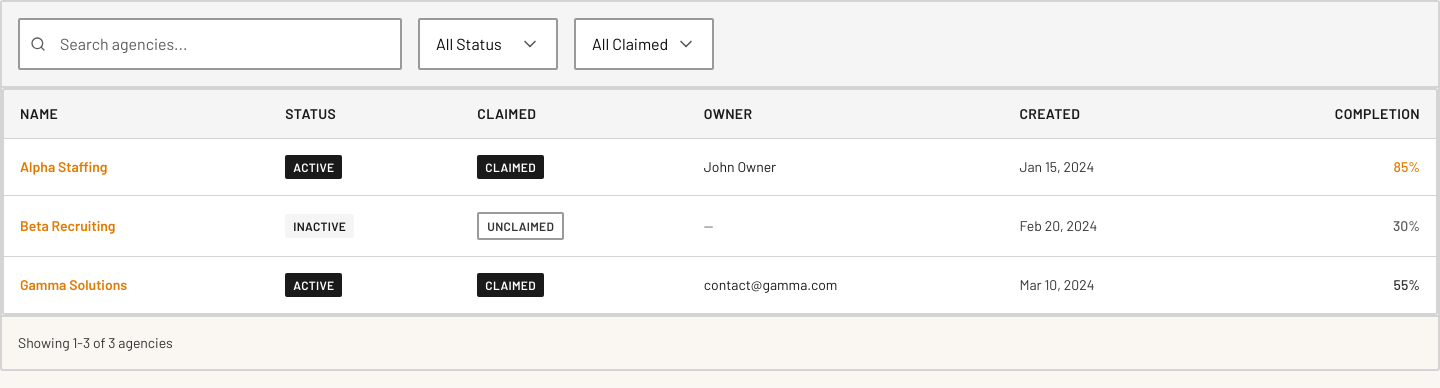
Scenario: AdminAgenciesTable › Clear Filters › clears all filters when clear button is clicked
The width and height of the screenshot is (1440, 388).
Note: Apply search filter
Type "Alpha" into the field with test id "agency-search-input".
click(210, 44); type("Alpha")  # box 18,18 -> 402,70
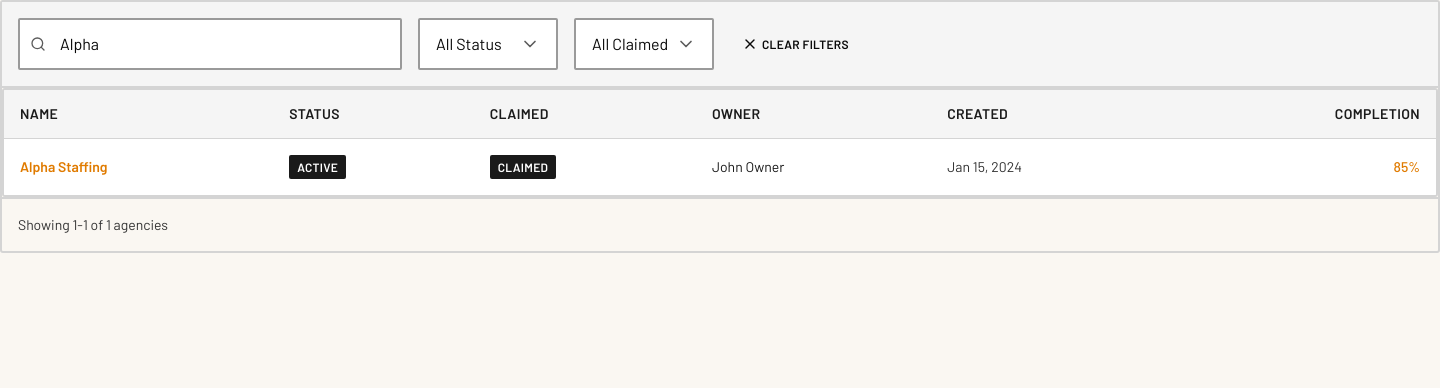
Note: Click clear button
Click the button with test id "clear-filters-button".
click(795, 44)  # box 730,22 -> 861,66
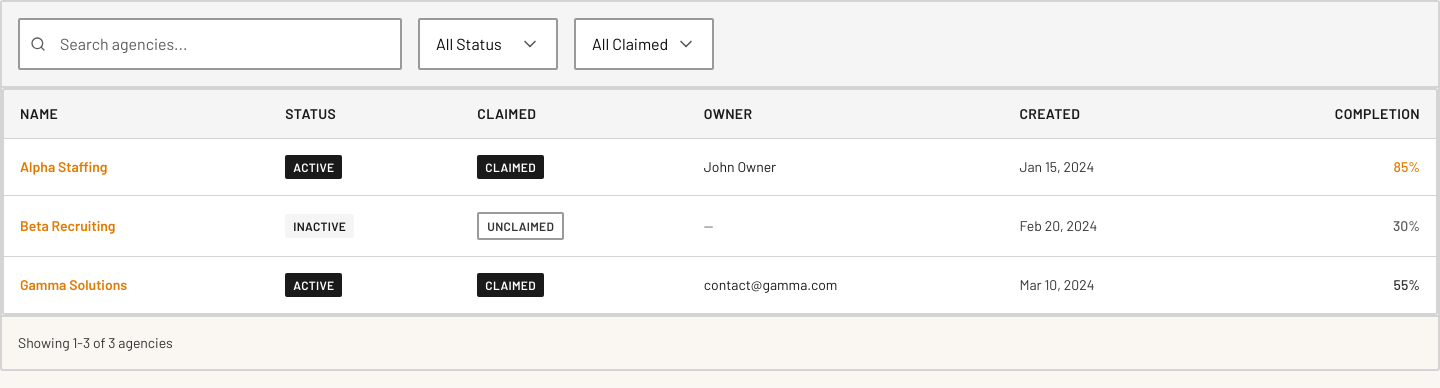
Expected: the link "Beta Recruiting" is shown, 20,216 -> 116,234
Expected: the link "Gamma Solutions" is shown, 20,276 -> 127,292
Expected: the button with test id "clear-filters-button" is gone
